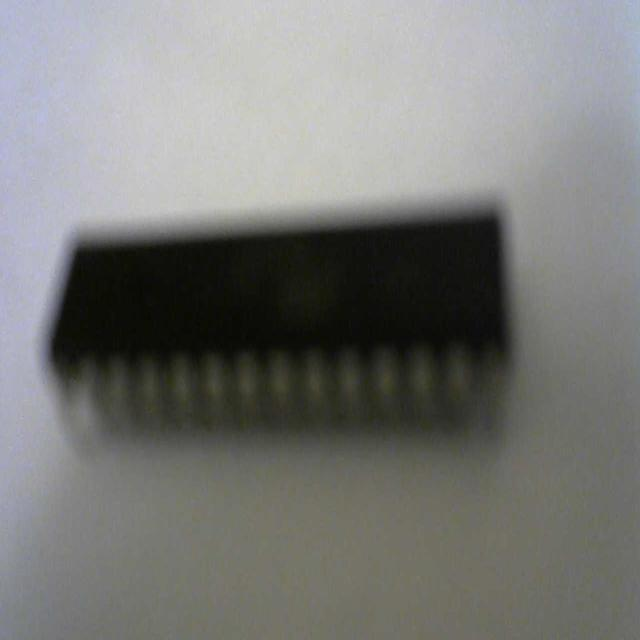atmega: (44, 194, 518, 451)
